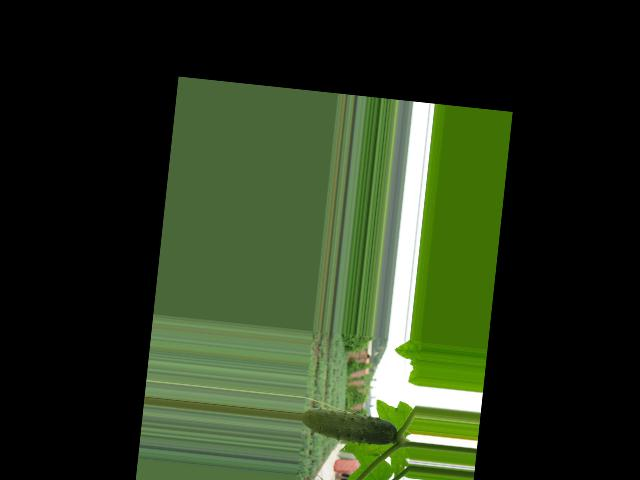cucumber: (300, 406, 398, 446)
